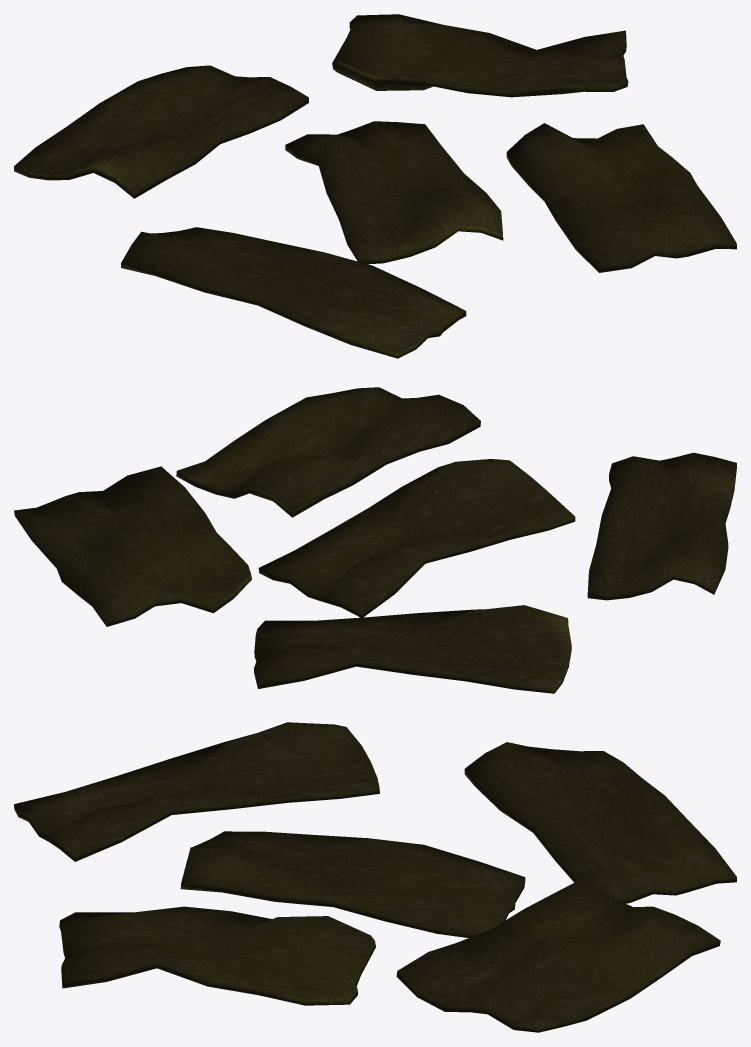
Rendered from yakiniku_02_p.glb.
3 views of the same model, one above another, from view 1: azimuth 30°, elevation 25°; view 2: azimuth 150°, elevation 25°; view 3: azimuth 270°, elevation 25° (orthographic). The views are drawn at different scales.
Visible parts, largest first — view 1: yakiniku; view 2: yakiniku; view 3: yakiniku.
Boxes of the visible parts, x1,y1,x2,y2 form: yakiniku: (14,14,736,358); yakiniku: (14,387,736,693); yakiniku: (14,722,736,1032).
Bounding box in the file's own units: 0.1808 × 0.0133 × 0.1797.
1 material, 1 textured.
